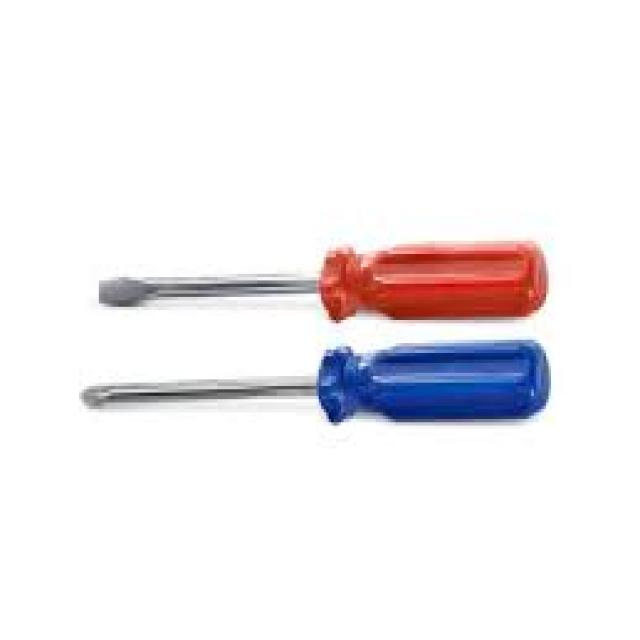Screwdriver: (81, 340, 550, 422), (99, 242, 547, 320)
